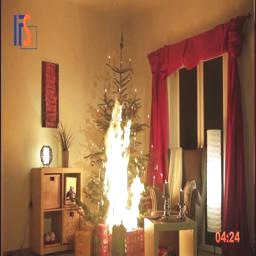fire: (88, 92, 160, 230)
